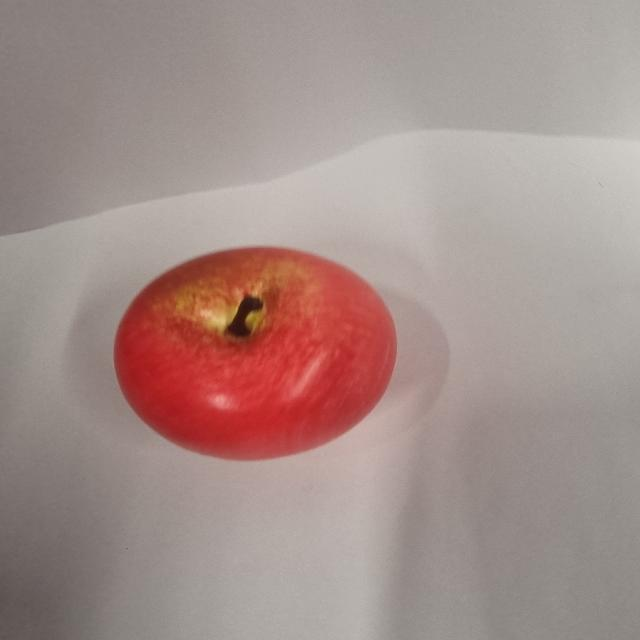apple: (113, 244, 397, 463)
